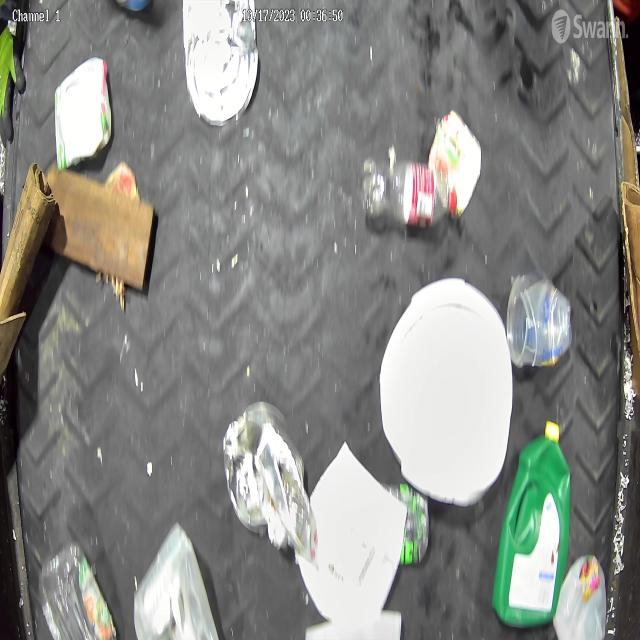can: (224, 402, 313, 559), (182, 0, 259, 127)
milk_jug: (134, 523, 216, 640), (552, 554, 608, 640)
non_white_jug: (493, 422, 571, 628)
plastic_bottle: (39, 540, 117, 640), (361, 151, 449, 234)
